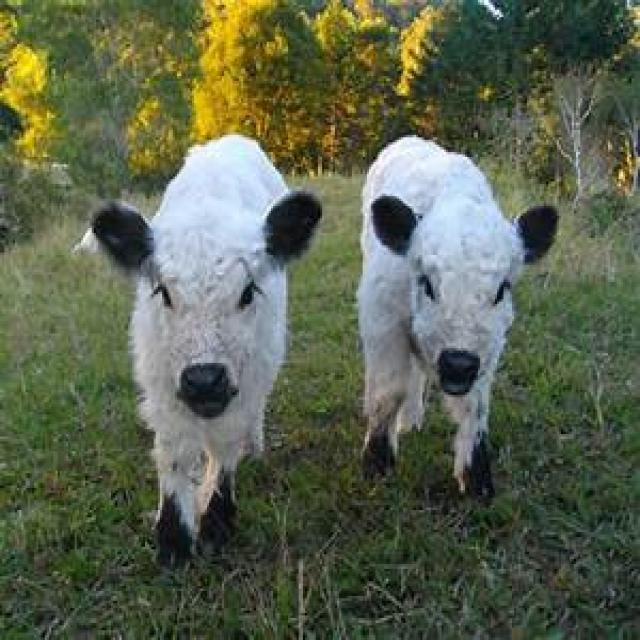cow: (89, 135, 321, 567), (362, 136, 556, 495)
